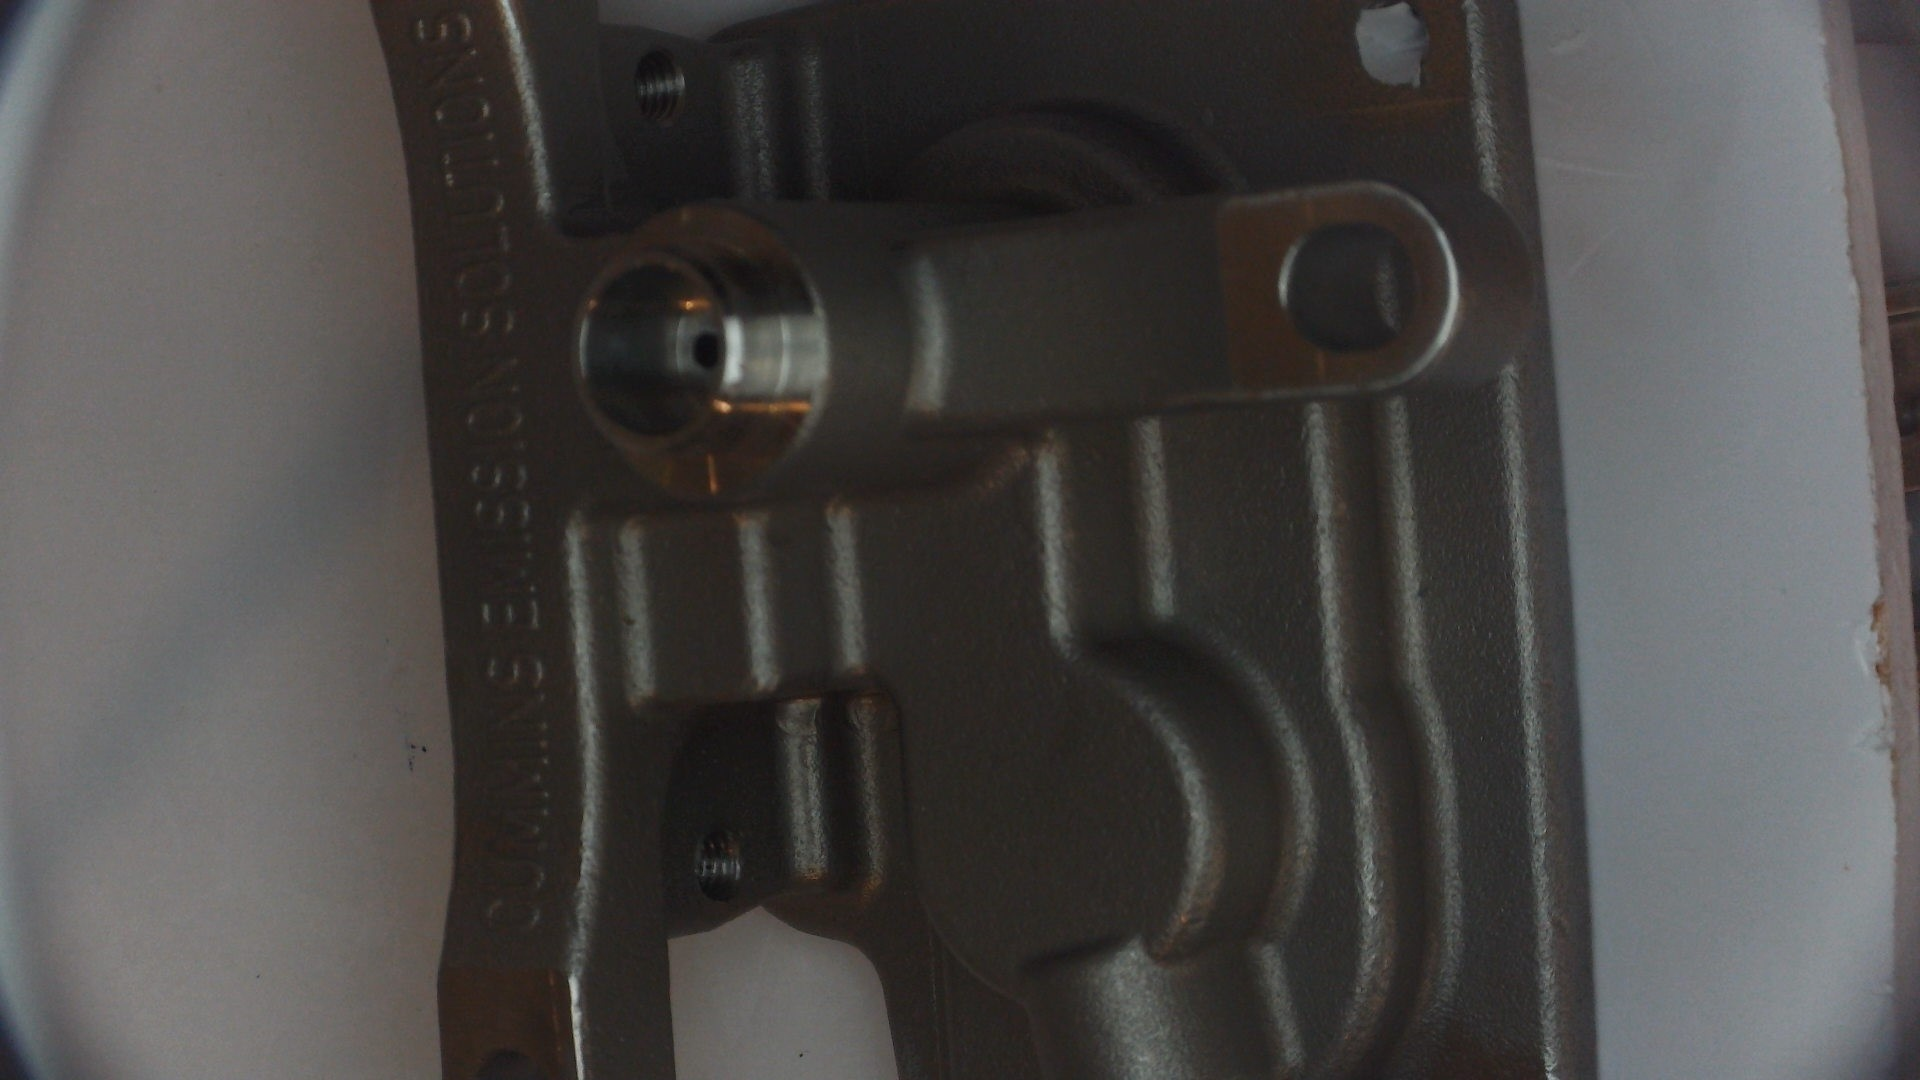thread_absence: (1352, 1, 1432, 88)
thread_presence: (632, 44, 688, 123), (694, 824, 745, 901)
